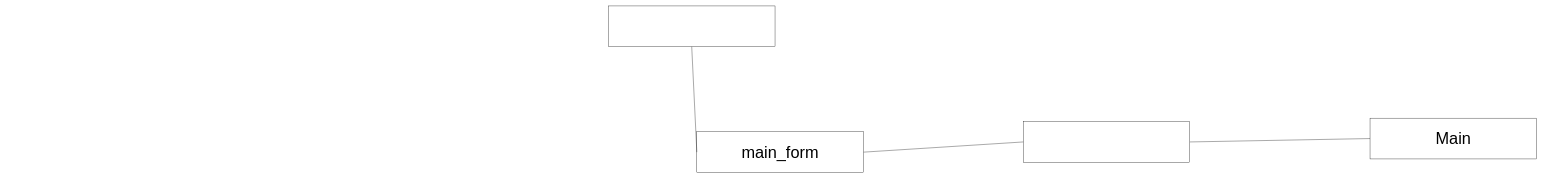
The diagram is 1543 pixels wide and 179 high, and some of its shapes have lost their labels. The centre of each missing label's shape, as x and y in pixels:
Development: the point at 1106,141
MyaOrders_feature: the point at 691,26
